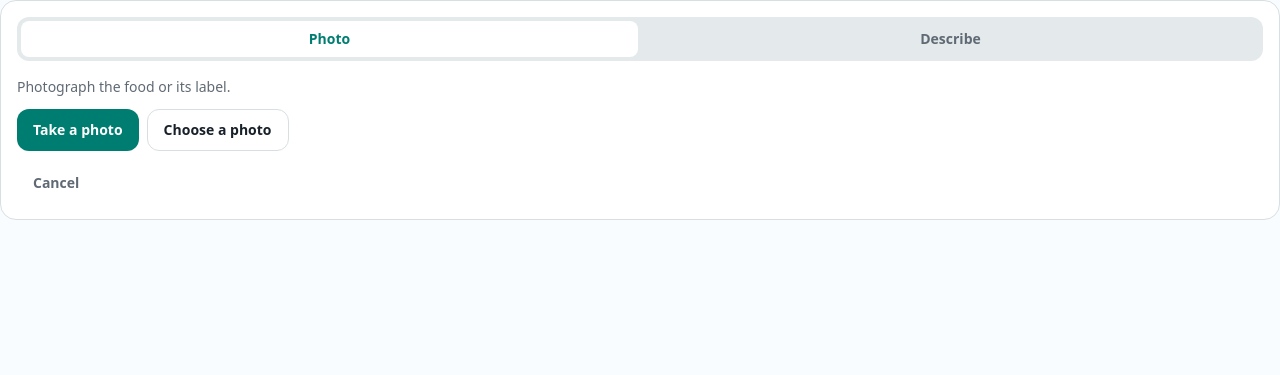
it: AiAssist — adding context to a photo › switches to the description without leaving
Click the tab "Describe".
click(950, 39)  # box [642,21,1259,57]
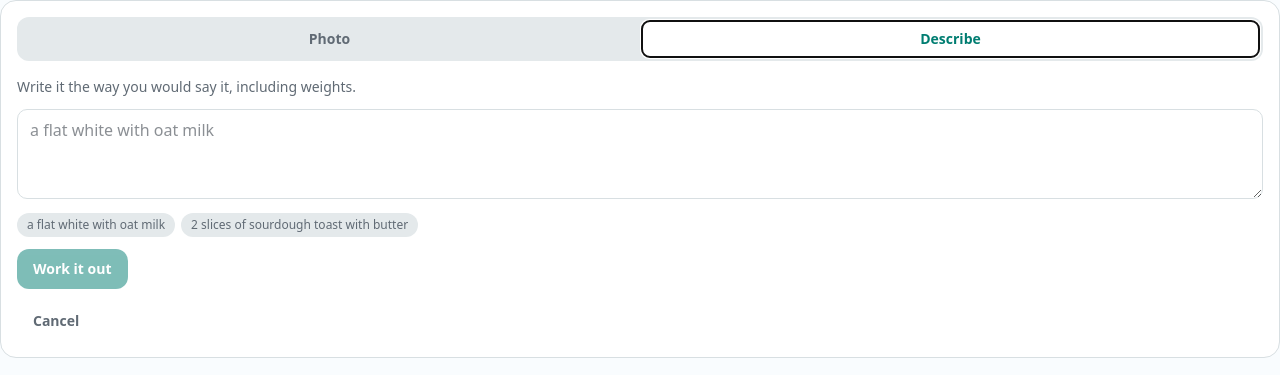
Expected: the text box is shown, [17,109,1263,199]
Expected: the button "Take a photo" is gone
